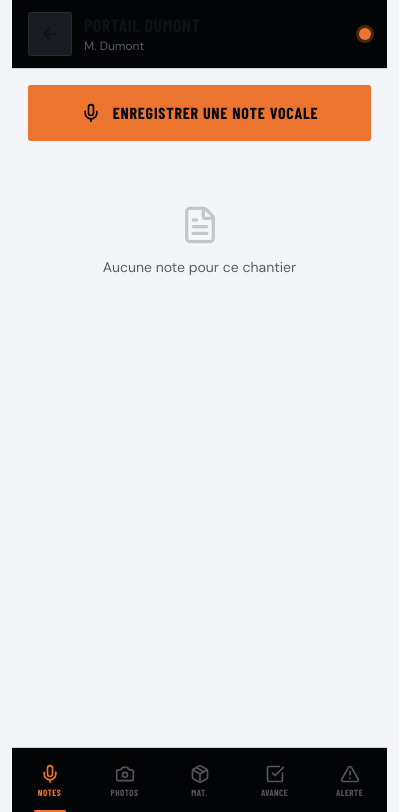
Interface terrain (ouvrier) — viewport 375px › Utilisable d'une seule main : ≤ 3 actions par écran › onglet Problème — au plus 5 éléments interactifs visibles hors nav
What coordinates should you click on to do the following:
click the button with test id "tab-probleme"
I would click on:
 (350, 780)
Its box is [312,748,387,811].
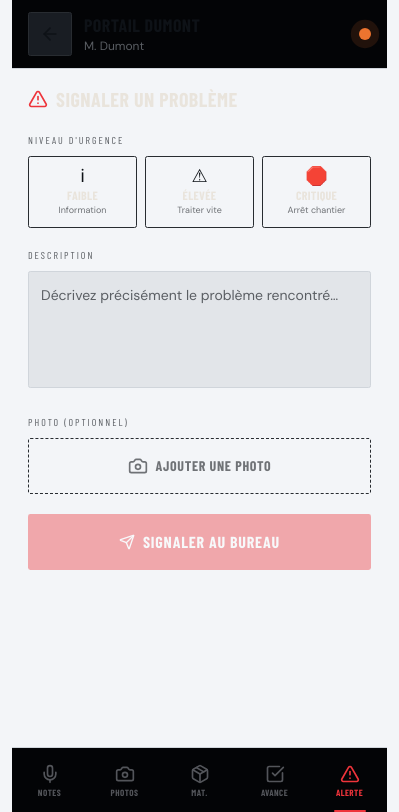
Now the number of buttons with test id "button:visible:not([data-testid^='tab-']):not([data-testid='back-button'])" is at most 5
